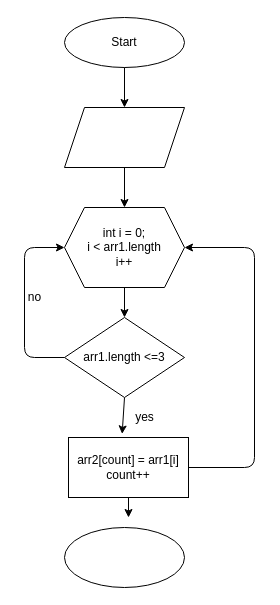
This 280x605 diagram has some shape labels left out. The centre of each missing label's shape, as x and y in pixels:
End: (124,557)
string[ ] arr1 string [ ] arr2 int count = 0: (124,137)
